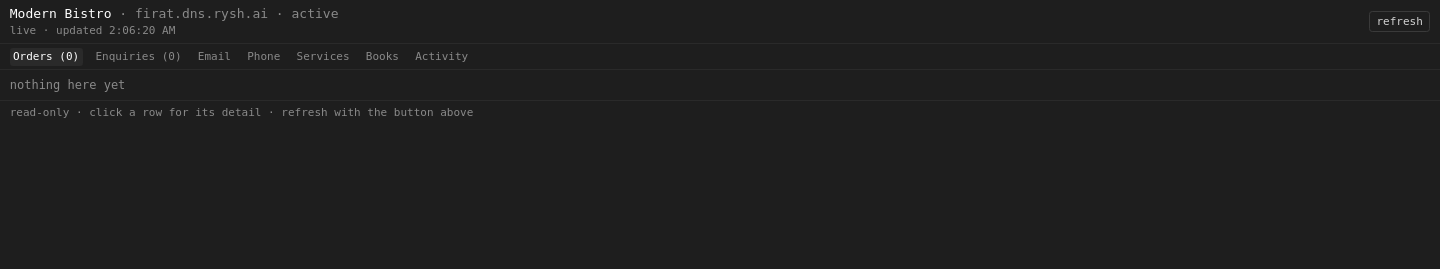
Test: CompanyView Books tab › a Books tab opens the read-only Books view from snapshot.books
This screenshot has width=1440, height=269.
Click the button "Books": click(382, 57) [363,48,402,66]
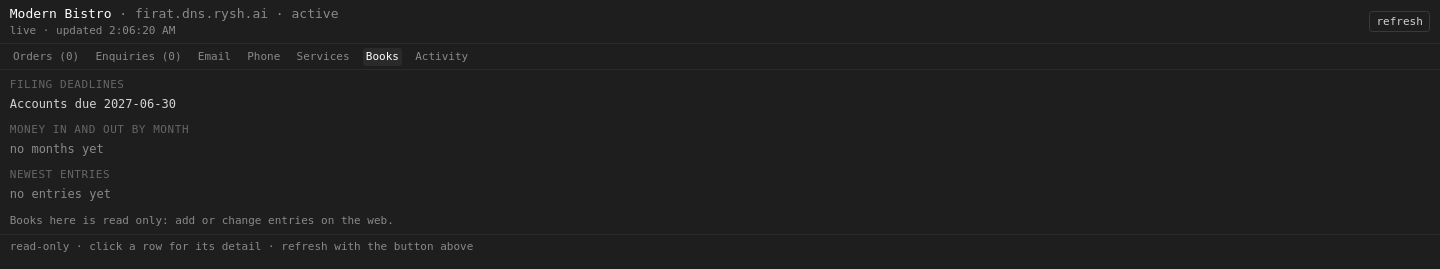
Result: the list item "Accounts due 2027-06-30" is shown at [10,97,176,111]
Result: the list item "nothing here yet" is gone
